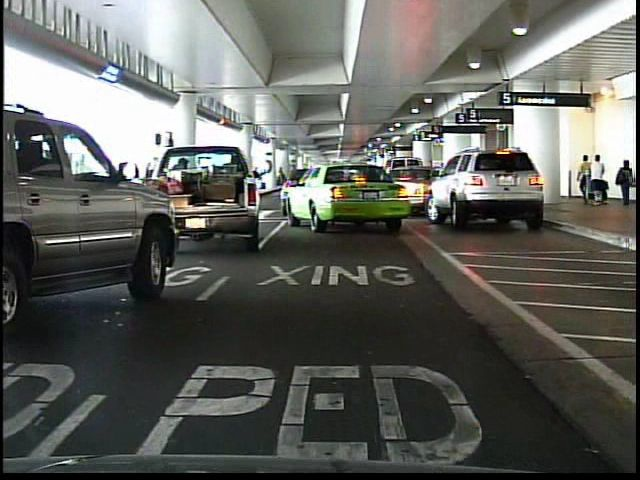person: (614, 159, 636, 210), (591, 153, 610, 210), (576, 155, 590, 205)
